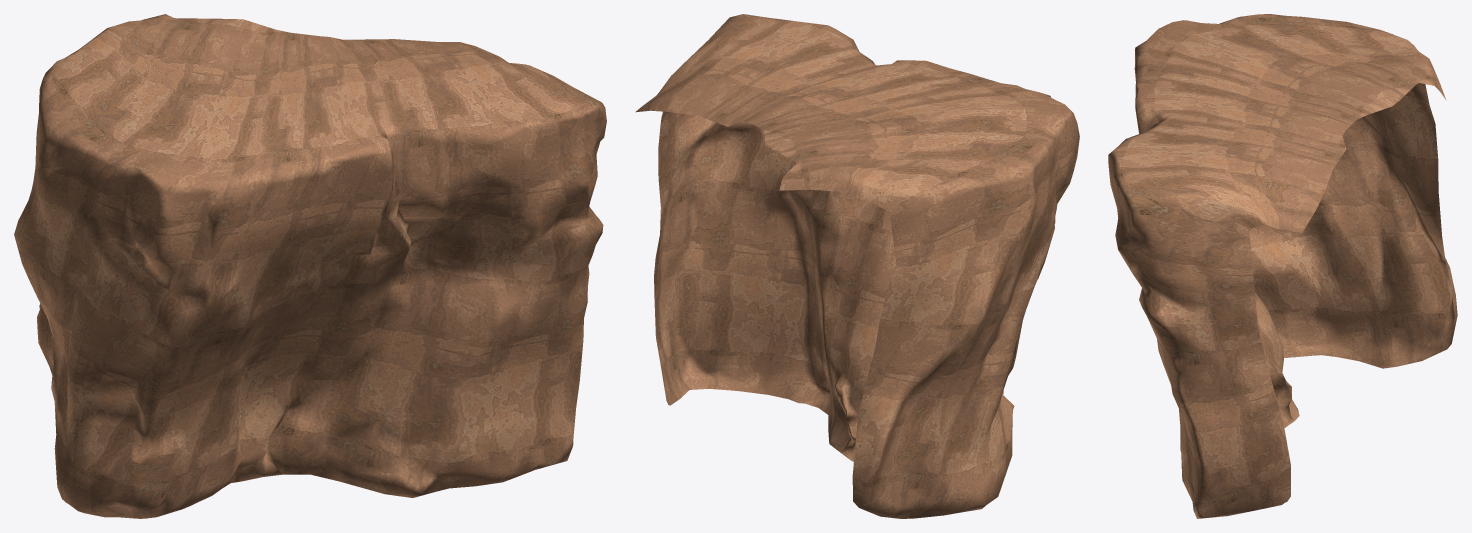
The model's file is Ob_RockCliff32.fbx.
3 views of the same model, side by side, from view 1: azimuth 30°, elevation 25°; view 2: azimuth 150°, elevation 25°; view 3: azimuth 270°, elevation 25° (orthographic). The views are drawn at different scales.
Visible parts, largest first — view 1: Ob_RockCliff32; view 2: Ob_RockCliff32; view 3: Ob_RockCliff32.
Boxes of the visible parts, bbox=[...] form: Ob_RockCliff32: bbox=[14, 14, 606, 518]; Ob_RockCliff32: bbox=[635, 14, 1079, 518]; Ob_RockCliff32: bbox=[1108, 14, 1457, 518].
Bounding box in the file's own units: 16975 × 14155 × 13059.
